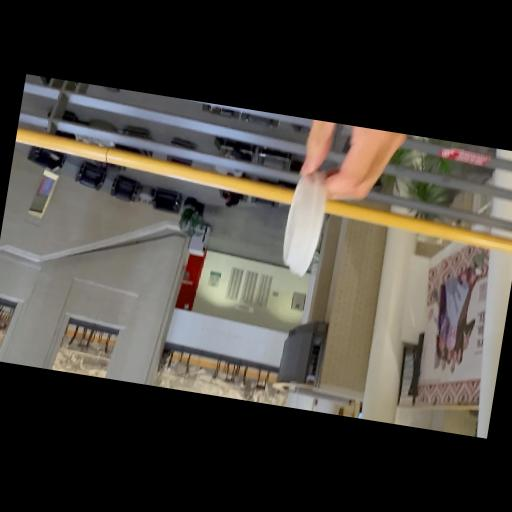lp_cup_lids: (275, 162, 333, 280)
